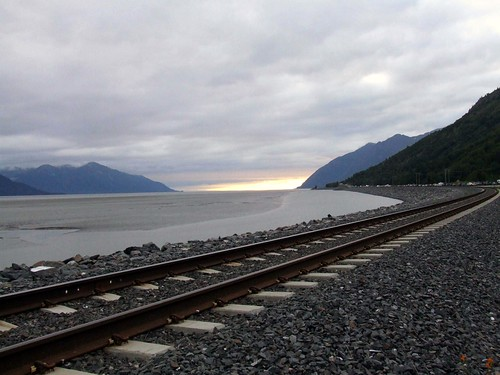mountain: (23, 156, 148, 182)
sea: (1, 184, 311, 241)
sky: (1, 1, 496, 151)
train track: (5, 188, 500, 372)
